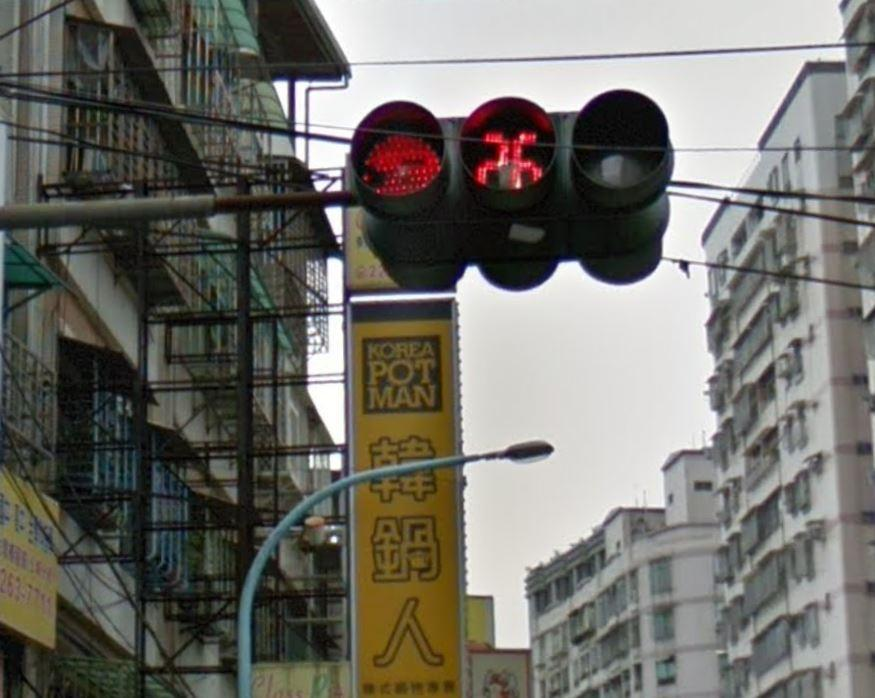red_traffic_light: (347, 86, 678, 234)
